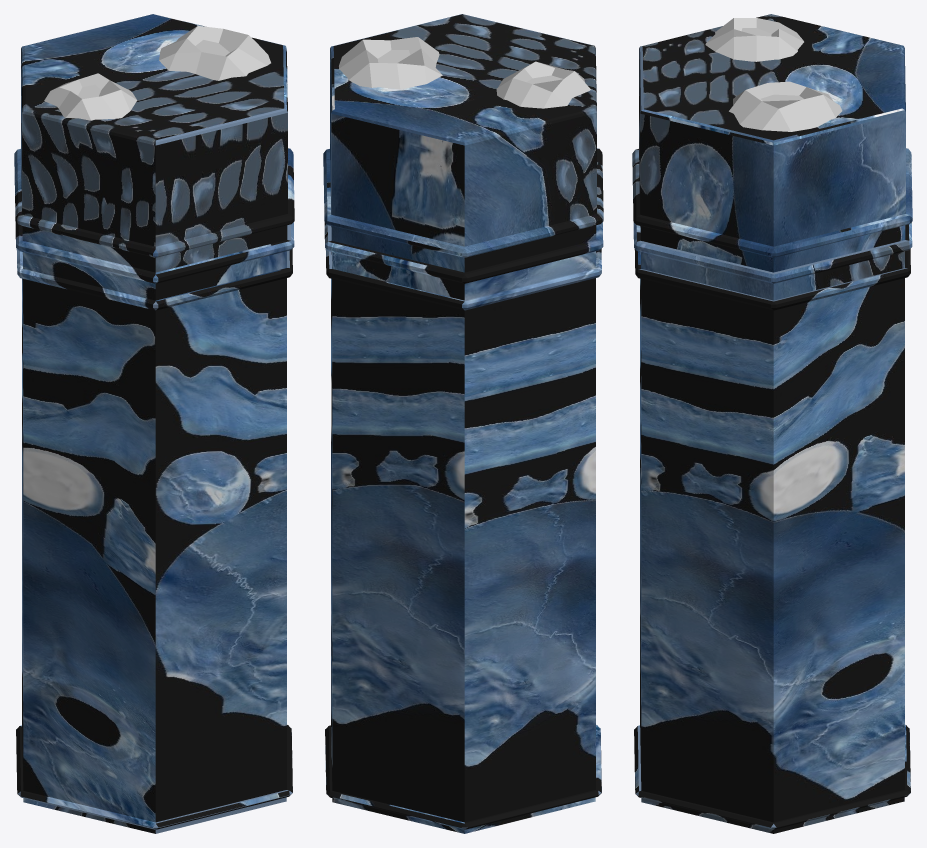
File: Gas.obj
The picture shows the model from 3 angles, left to right: view 1: azimuth 30°, elevation 25°; view 2: azimuth 150°, elevation 25°; view 3: azimuth 270°, elevation 25°; orthographic projection.
Visible parts, largest first — view 1: Circle, Cube.001, Cube; view 2: Circle, Cube.001, Cube; view 3: Circle, Cube.001, Cube.
Part boxes in pixels (x1,y1,x2,y2): Circle: (14, 14, 294, 833); Cube.001: (159, 26, 270, 80); Cube: (44, 73, 137, 120); Circle: (323, 14, 603, 833); Cube.001: (339, 37, 442, 89); Cube: (496, 61, 590, 108); Circle: (632, 14, 912, 833); Cube.001: (729, 81, 842, 131); Cube: (705, 18, 803, 61).
Size of the model in its own units: 0.5838 by 1.43 by 0.5125.
